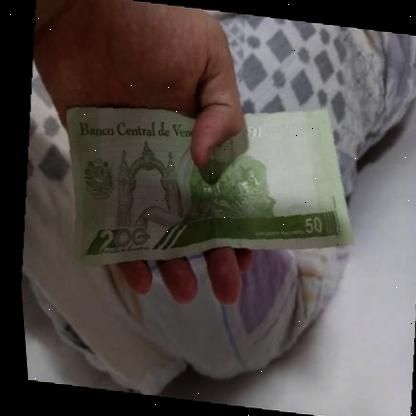fifty-back-vef: (52, 90, 363, 286)
